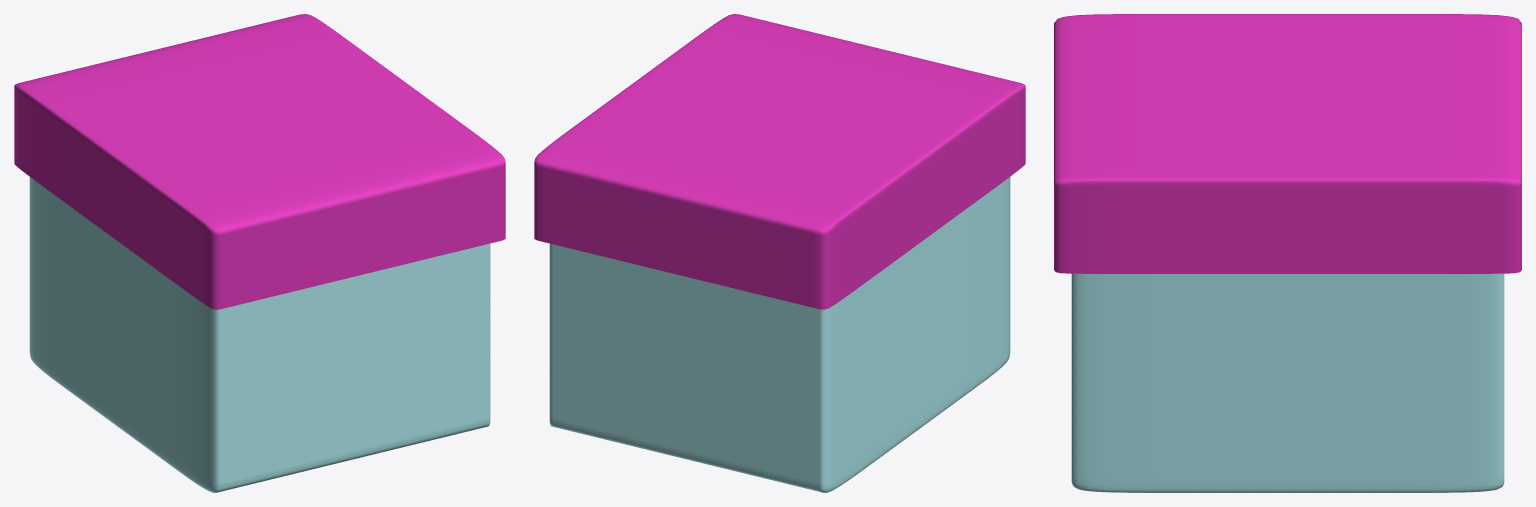
3 views of the same model, side by side, from view 1: azimuth 30°, elevation 25°; view 2: azimuth 150°, elevation 25°; view 3: azimuth 270°, elevation 25° (orthographic). The views are drawn at different scales.
Parts seen in each view (by area): view 1: Object_2.006, Object_2; view 2: Object_2.006, Object_2; view 3: Object_2.006, Object_2.
Boxes of the visible parts, box(x1,y1,x2,y2) form: Object_2.006: box(14, 14, 505, 309); Object_2: box(29, 177, 490, 492); Object_2.006: box(534, 14, 1025, 309); Object_2: box(549, 177, 1010, 492); Object_2.006: box(1054, 14, 1521, 273); Object_2: box(1071, 273, 1504, 492).
Size of the model in its own units: 0.8437 by 0.7528 by 1.
